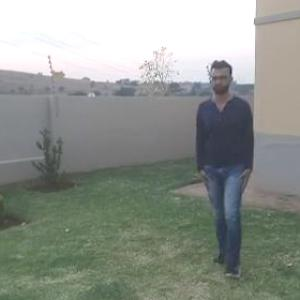follow: (196, 62, 258, 244)
